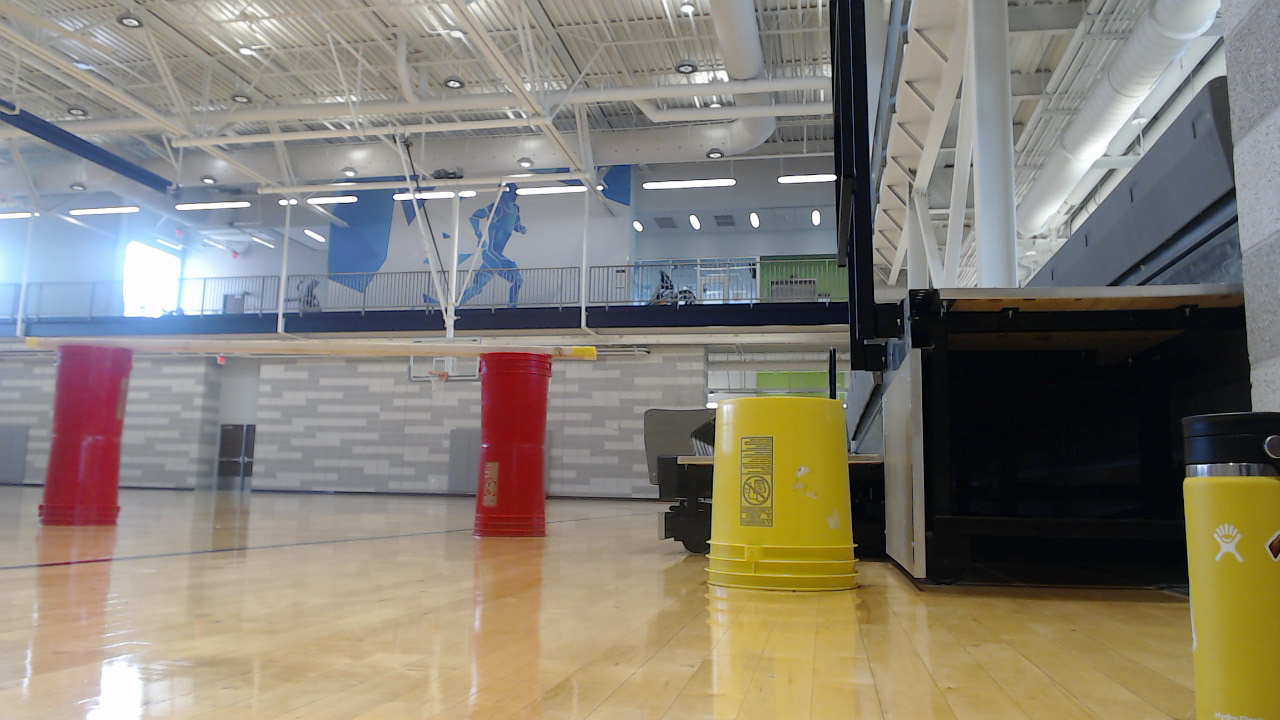red_bucket_arch: (42, 339, 559, 548)
yellow_bucket: (707, 397, 868, 605)
